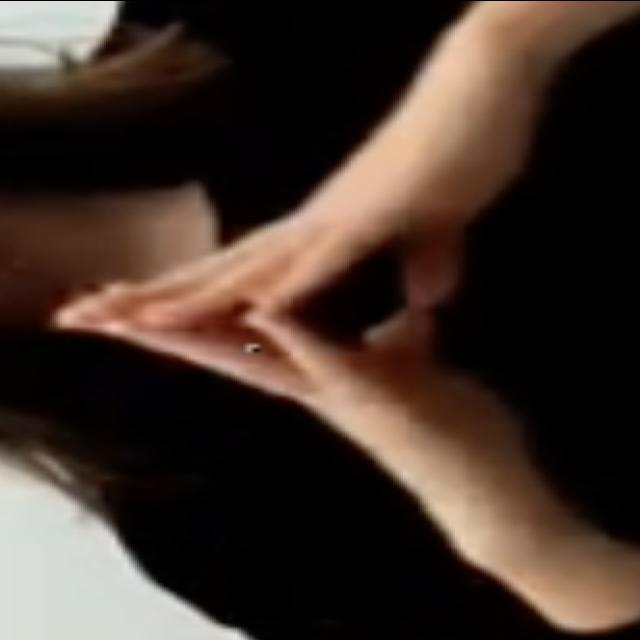casa: (50, 17, 602, 560)
